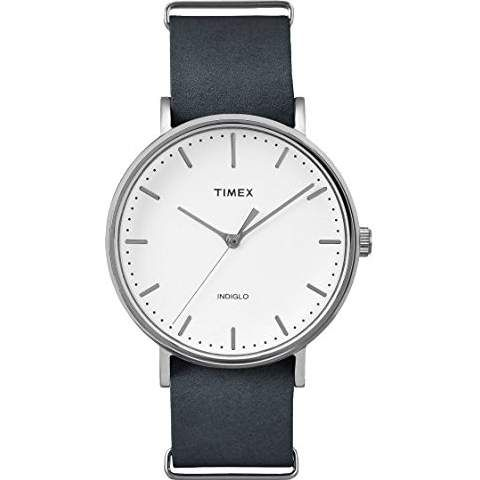clock: (105, 114, 360, 370)
